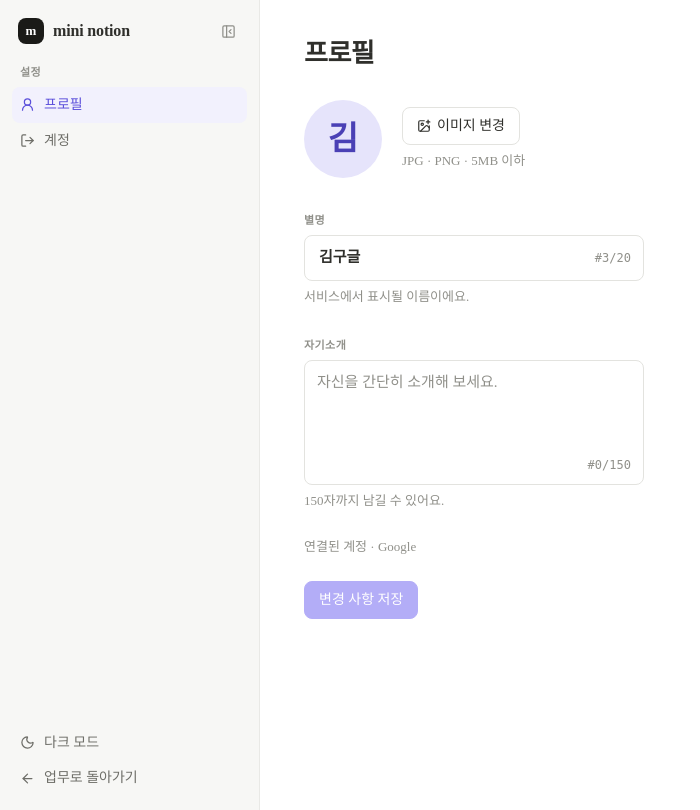
Test case: 길이 제한과 오류 상황 (US3) › 저장이 실패하면 오류 안내가 뜨고 입력 내용은 유지된다 (FR-012)
Check: the field named "별명" holds "김구글", box [317,245,585,271]
Type "날아가면 안 되는 소개" into the text box named "자기소개". click: (474, 408)
box: [317,370,631,446]
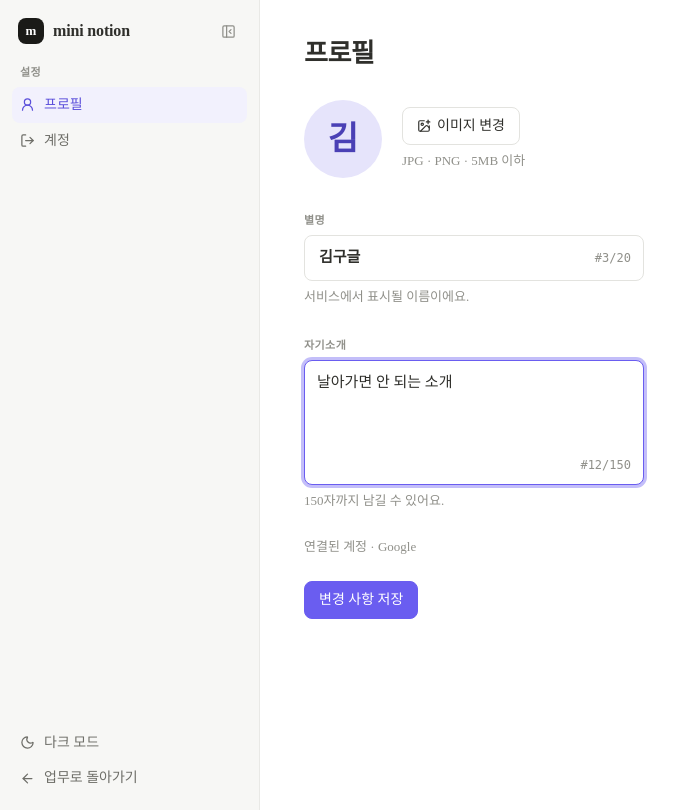
Click the button "변경 사항 저장". click: (361, 600)
box: [304,581,418,619]
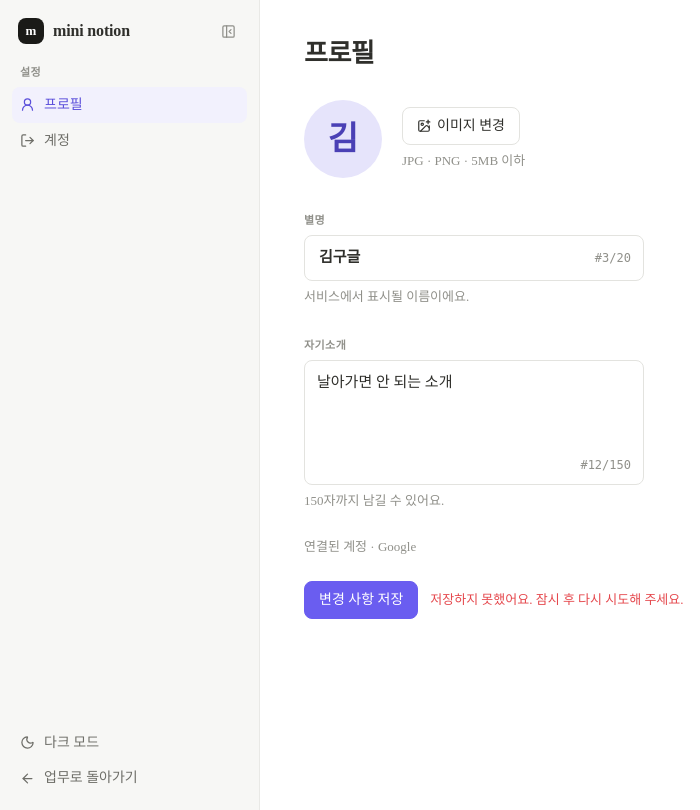
Check: the message reads "저장하지 못했어요. 잠시 후 다시 시도해 주세요.", box [430,592,684,607]
